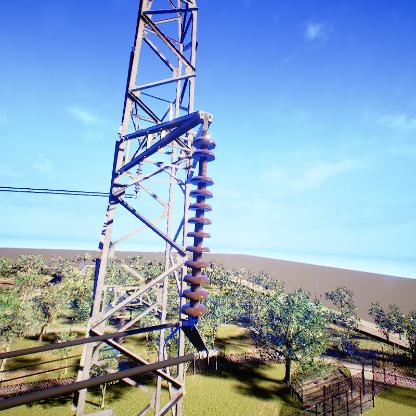insulator: (181, 132, 220, 322)
